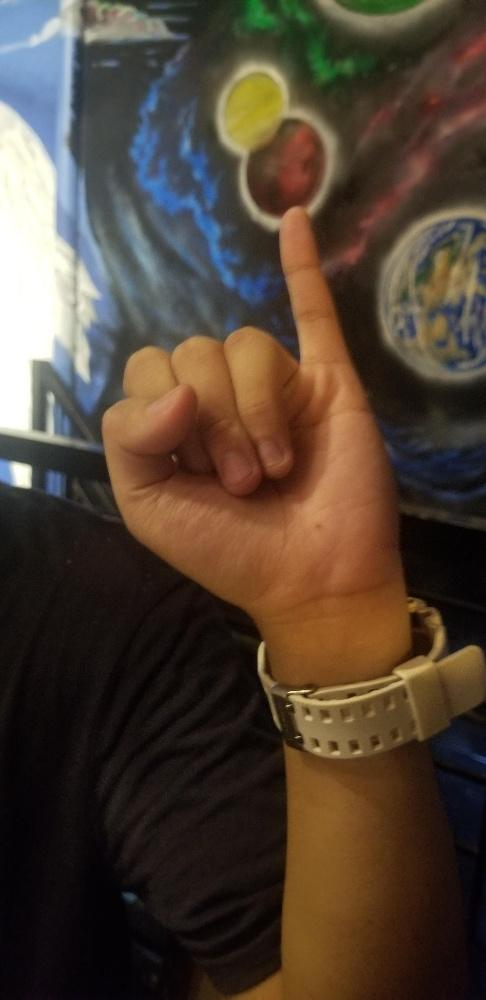i: (97, 201, 394, 589)
